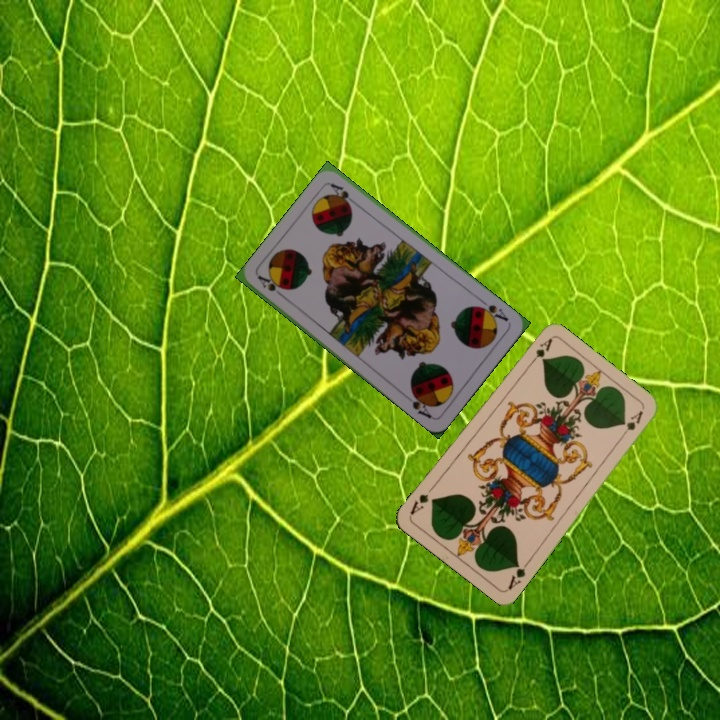GA: (524, 335, 555, 369), (504, 556, 532, 592)
SA: (473, 295, 511, 324), (254, 271, 288, 302)
